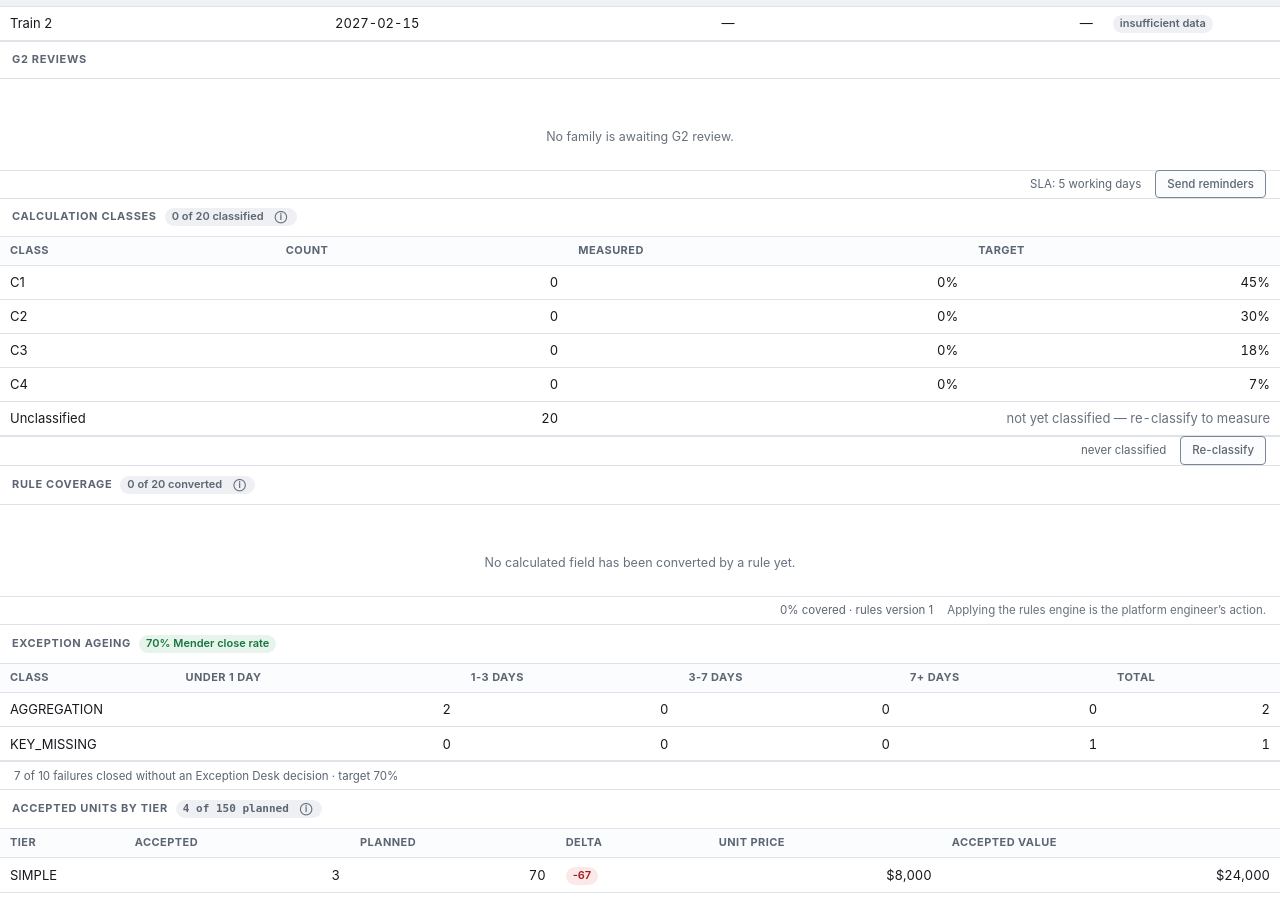
Test case: calculation class mix (S5.1.1) › re-classifies and reports how many fields moved class
(page scrolled)
Expected: the element named "Calculation class mix" is shown, [0,199,1279,465]
Click the button "Re-classify" at x=1223, y=451, box [1180,436,1266,465]
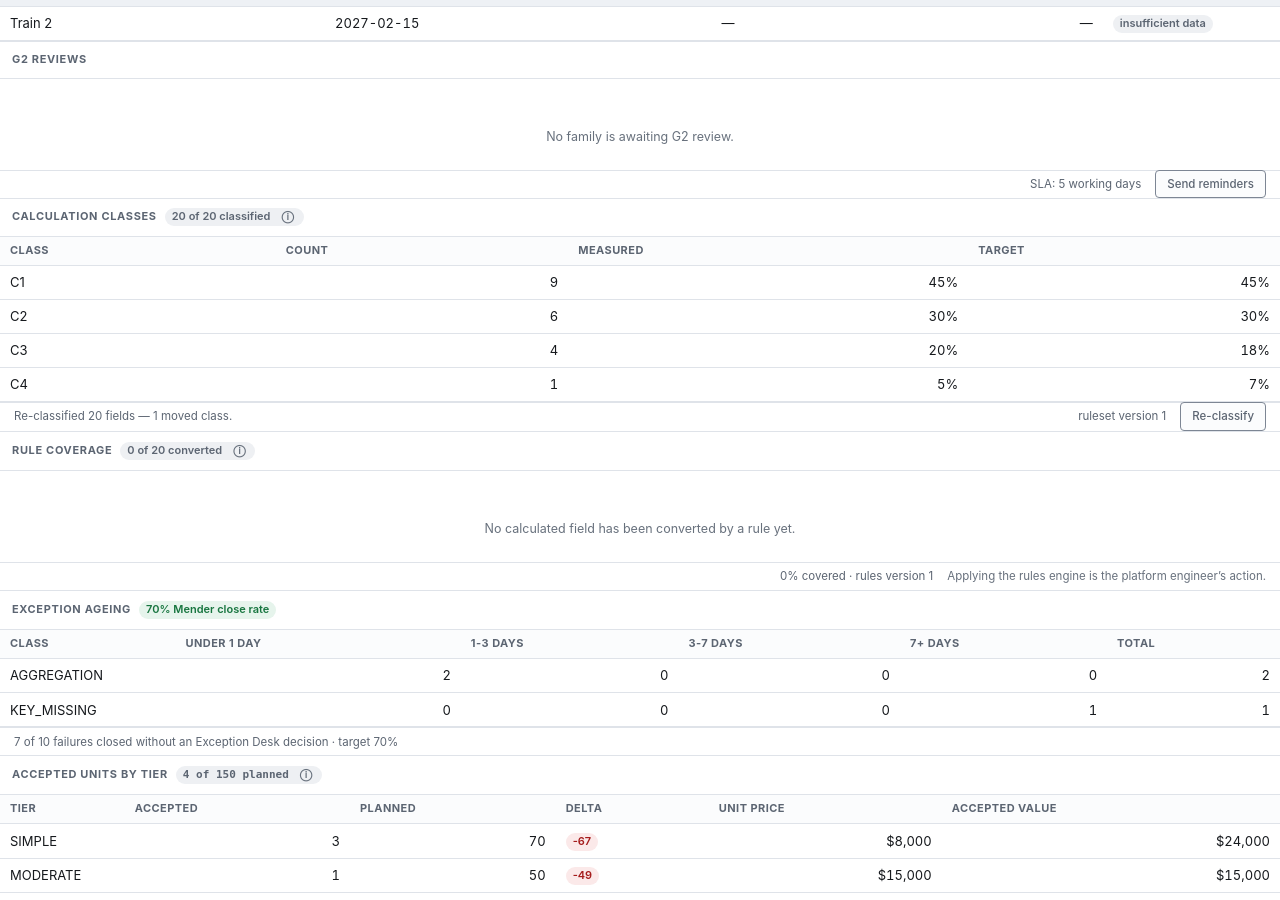
Expected: the text "Re-classified 20 fields — 1 moved class." is shown, [14,408,232,425]
